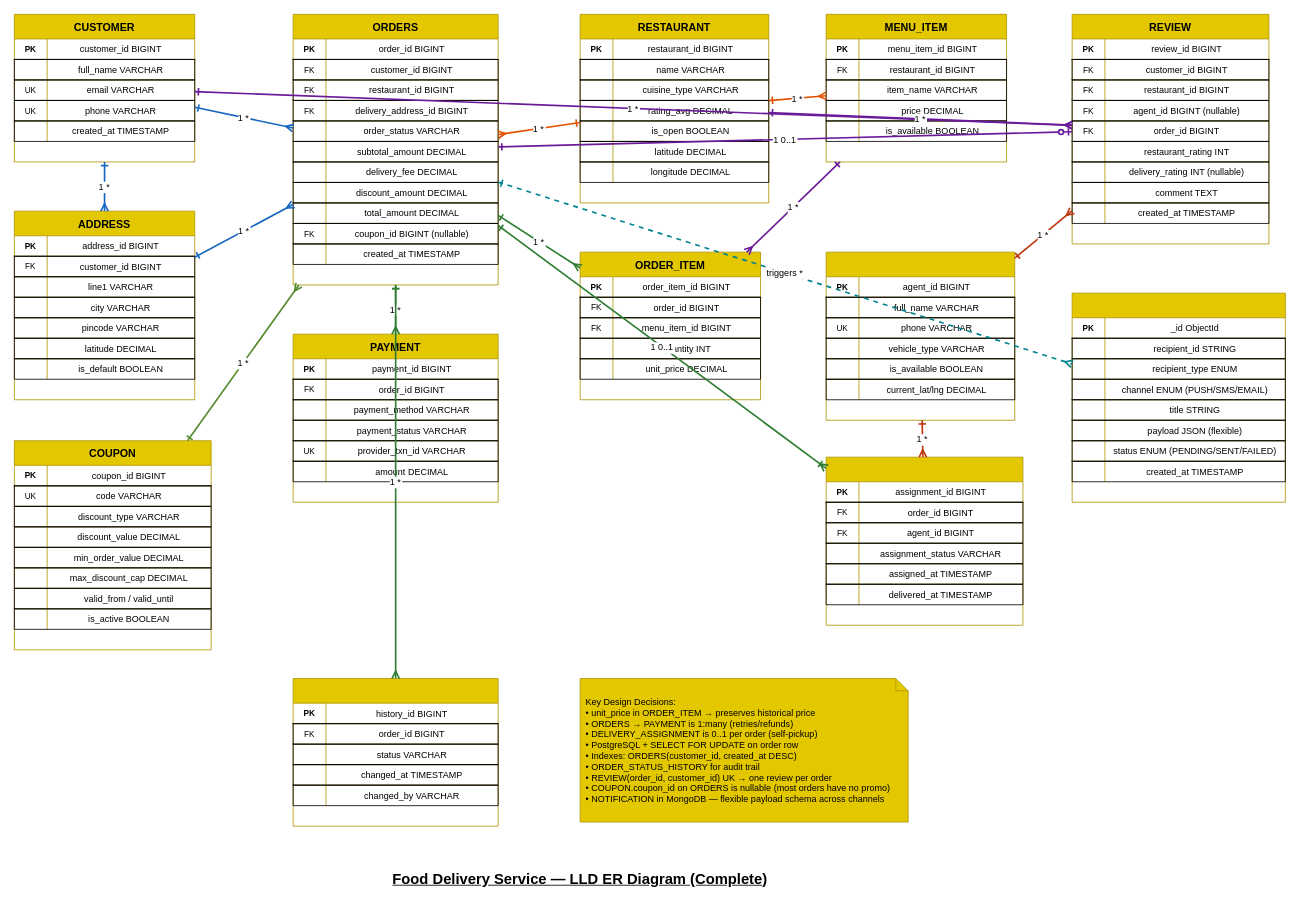
The diagram is 1300 pixels wide and 906 high, and some of its shapes have lost their labels. The shapes that lost their labels are listed below. From the top down, each one's box as (x1, y1, x2, y2) in pixels, then its label:
(825, 251, 1015, 420): DELIVERY_AGENT
(1071, 292, 1285, 502): NOTIFICATION (MongoDB)
(825, 456, 1023, 625): DELIVERY_ASSIGNMENT
(292, 678, 498, 826): ORDER_STATUS_HISTORY
